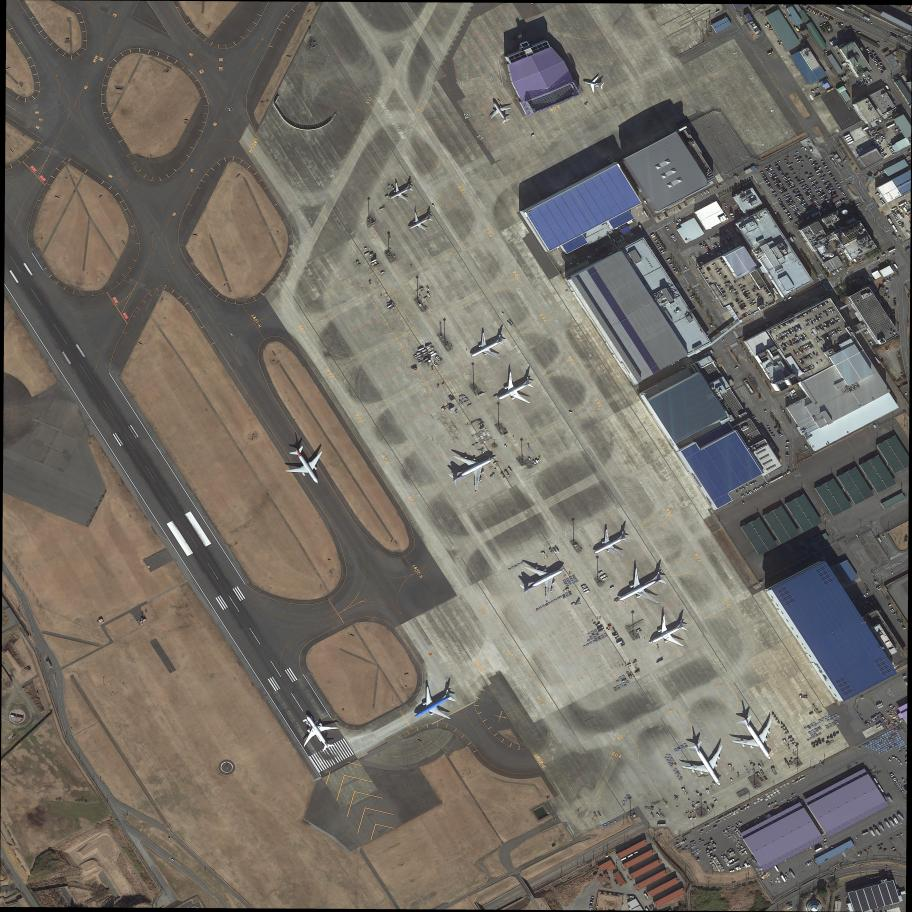large-vehicle: (891, 814, 900, 825), (878, 822, 887, 832), (873, 824, 881, 835), (888, 817, 896, 827), (884, 819, 892, 829), (869, 827, 877, 837), (886, 794, 894, 803), (835, 5, 845, 12), (897, 813, 905, 821), (793, 25, 801, 33), (891, 233, 899, 241), (898, 201, 907, 208), (814, 846, 823, 853), (789, 871, 796, 879), (888, 247, 896, 254), (500, 472, 506, 480), (504, 470, 510, 478), (766, 22, 772, 30), (759, 777, 765, 784), (373, 263, 380, 269), (863, 15, 870, 21), (893, 263, 899, 270), (873, 777, 879, 784), (663, 212, 669, 219), (627, 853, 634, 859), (620, 856, 627, 862), (902, 206, 908, 213), (897, 212, 903, 219), (763, 776, 769, 782), (677, 205, 683, 211), (789, 760, 794, 767), (767, 51, 774, 56), (683, 201, 688, 208), (760, 770, 765, 776), (426, 292, 431, 298), (656, 813, 661, 819), (715, 9, 721, 14), (530, 133, 536, 138), (390, 185, 395, 191), (384, 194, 390, 199), (878, 704, 884, 709), (657, 216, 662, 222), (899, 207, 904, 213), (876, 703, 883, 707), (892, 776, 897, 781), (889, 837, 894, 842), (876, 843, 881, 848), (431, 204, 436, 209), (729, 778, 734, 783), (840, 22, 845, 27), (764, 24, 769, 29), (877, 784, 882, 789), (829, 41, 834, 46), (634, 850, 639, 855), (888, 704, 894, 708), (755, 773, 759, 778), (893, 778, 898, 782), (889, 772, 894, 776), (757, 772, 761, 777), (501, 311, 505, 316), (568, 410, 573, 414), (504, 444, 508, 449), (379, 207, 384, 211), (530, 0, 534, 5), (792, 235, 796, 240), (867, 276, 871, 281), (880, 788, 884, 793), (900, 224, 905, 228), (883, 847, 887, 851), (426, 287, 430, 291), (712, 782, 716, 786), (751, 482, 756, 485), (738, 488, 743, 491), (741, 487, 746, 490), (387, 184, 390, 189), (740, 15, 743, 20), (745, 485, 749, 488), (749, 483, 753, 486), (753, 481, 757, 484), (904, 204, 907, 208), (622, 903, 624, 907)
plane: (667, 723, 745, 804), (718, 702, 792, 779), (603, 556, 674, 622), (440, 434, 507, 503), (399, 670, 469, 735), (508, 548, 578, 613), (636, 599, 704, 664), (273, 433, 337, 499), (287, 700, 348, 764), (484, 362, 546, 420), (460, 315, 520, 372), (583, 516, 641, 567), (401, 203, 442, 243), (383, 174, 421, 211), (483, 94, 518, 129), (580, 73, 608, 96)
small-vehicle: (835, 315, 840, 320), (825, 313, 830, 318), (896, 618, 901, 623), (876, 585, 881, 590), (888, 603, 893, 608), (854, 835, 859, 840), (171, 858, 176, 863), (768, 294, 773, 299), (883, 154, 888, 159), (819, 13, 824, 18), (876, 57, 881, 62), (777, 325, 782, 330), (773, 327, 778, 332), (780, 324, 785, 329), (660, 251, 666, 255), (650, 235, 656, 239), (653, 239, 659, 243), (657, 246, 663, 250), (843, 26, 847, 32), (847, 7, 853, 11), (807, 309, 811, 315), (765, 181, 771, 185), (799, 350, 803, 355), (815, 353, 819, 358), (793, 337, 797, 342), (782, 347, 786, 352), (782, 343, 786, 348), (779, 344, 783, 349), (733, 243, 737, 248), (727, 246, 731, 251), (721, 249, 725, 254), (718, 251, 722, 256), (833, 270, 837, 275), (735, 242, 739, 247), (706, 189, 710, 194), (700, 192, 704, 197), (692, 196, 696, 201), (818, 313, 822, 318), (814, 314, 818, 319), (819, 316, 823, 321), (819, 303, 823, 308), (821, 302, 825, 307), (825, 300, 829, 305), (769, 330, 773, 335), (891, 275, 895, 280), (886, 278, 890, 283), (833, 309, 837, 314), (831, 306, 835, 311), (829, 307, 833, 312), (797, 323, 801, 328), (834, 332, 838, 337), (826, 336, 830, 341), (837, 326, 841, 331), (901, 625, 906, 629), (899, 832, 904, 836), (896, 834, 900, 839), (898, 622, 903, 626), (869, 601, 873, 606), (745, 492, 749, 497), (855, 533, 859, 538), (891, 571, 895, 576), (877, 588, 882, 592), (892, 612, 897, 616), (863, 593, 867, 598), (852, 599, 856, 604), (890, 609, 895, 613), (891, 847, 896, 851), (867, 847, 871, 852), (864, 848, 868, 853), (862, 849, 866, 854), (804, 862, 808, 867), (830, 873, 835, 877), (673, 269, 678, 273), (741, 289, 746, 293), (739, 287, 744, 291), (729, 282, 733, 287), (723, 282, 728, 286), (725, 284, 729, 289), (686, 289, 691, 293), (666, 258, 671, 262), (665, 228, 670, 232), (723, 264, 728, 268), (718, 273, 723, 277), (714, 268, 719, 272), (664, 226, 669, 230), (670, 234, 675, 238), (650, 233, 655, 237), (655, 242, 660, 246), (656, 244, 661, 248), (660, 249, 665, 253), (777, 431, 782, 435), (709, 323, 713, 328), (721, 338, 725, 343), (763, 409, 768, 413), (779, 434, 784, 438), (744, 312, 748, 317), (748, 310, 752, 315), (766, 292, 771, 296), (734, 366, 739, 370), (810, 308, 814, 313), (863, 81, 867, 86), (815, 86, 820, 90), (811, 89, 815, 94), (863, 77, 867, 82), (807, 141, 812, 145), (852, 29, 857, 33), (835, 22, 839, 27), (869, 21, 874, 25), (823, 50, 828, 54), (897, 61, 901, 66), (880, 134, 885, 138), (804, 147, 808, 152), (782, 176, 787, 180), (773, 162, 778, 166), (775, 164, 780, 168), (780, 172, 785, 176), (781, 173, 786, 177), (788, 185, 793, 189), (774, 175, 779, 179), (791, 183, 796, 187), (793, 155, 798, 159), (817, 167, 822, 171), (815, 169, 820, 173), (816, 172, 821, 176), (804, 154, 808, 159), (798, 155, 803, 159), (808, 158, 813, 162), (810, 163, 815, 167), (788, 166, 793, 170), (794, 158, 799, 162), (783, 159, 788, 163), (796, 160, 801, 164), (807, 177, 812, 181), (797, 180, 802, 184), (792, 172, 797, 176), (824, 15, 828, 20), (815, 11, 819, 16), (811, 9, 815, 14), (783, 14, 787, 19), (865, 47, 870, 51), (866, 49, 871, 53), (867, 50, 872, 54), (610, 586, 615, 590), (783, 196, 788, 200), (788, 204, 793, 208), (777, 199, 782, 203), (778, 201, 783, 205), (780, 204, 785, 208), (781, 206, 786, 210), (782, 207, 787, 211), (787, 214, 792, 218), (795, 195, 800, 199), (802, 207, 807, 211), (821, 208, 825, 213), (786, 321, 790, 326), (789, 319, 793, 324), (795, 316, 799, 321), (799, 314, 803, 319), (802, 312, 806, 317), (835, 183, 840, 187), (830, 156, 834, 161), (823, 165, 828, 169), (825, 167, 830, 171), (826, 170, 831, 174), (830, 175, 835, 179), (832, 178, 837, 182), (828, 204, 832, 209), (838, 188, 843, 192), (840, 190, 845, 194), (843, 194, 848, 198), (880, 174, 884, 179), (875, 192, 880, 196), (772, 191, 777, 195), (891, 211, 896, 215), (774, 182, 779, 186), (769, 186, 774, 190), (807, 189, 812, 193), (802, 188, 807, 192), (806, 194, 811, 198), (819, 176, 824, 180), (823, 184, 828, 188), (829, 186, 834, 190), (826, 200, 831, 204), (824, 197, 829, 201), (822, 193, 827, 197), (793, 350, 797, 354), (812, 351, 816, 355), (804, 344, 808, 348), (799, 346, 803, 350), (797, 347, 801, 351), (796, 352, 800, 356), (794, 353, 798, 357), (809, 353, 813, 357), (798, 359, 802, 363), (820, 359, 824, 363), (798, 339, 802, 343), (796, 340, 800, 344), (799, 335, 803, 339), (796, 336, 800, 340), (809, 345, 813, 349), (788, 344, 792, 348), (785, 342, 789, 346), (815, 361, 819, 365), (730, 245, 734, 249), (723, 249, 727, 253), (716, 252, 720, 256), (702, 240, 706, 244), (703, 242, 707, 246), (836, 269, 840, 273), (804, 367, 808, 371), (703, 191, 707, 195), (725, 240, 729, 244), (723, 238, 727, 242), (839, 267, 843, 271), (716, 242, 720, 246), (713, 243, 717, 247), (711, 244, 715, 248), (726, 229, 730, 233), (721, 231, 725, 235), (715, 234, 719, 238), (804, 336, 808, 340), (834, 317, 838, 321), (827, 324, 831, 328), (825, 325, 829, 329), (822, 327, 826, 331), (820, 328, 824, 332), (834, 320, 838, 324), (837, 319, 841, 323), (822, 311, 826, 315), (831, 318, 835, 322), (826, 320, 830, 324), (823, 322, 827, 326), (818, 325, 822, 329), (815, 326, 819, 330), (777, 339, 781, 343), (893, 297, 897, 301), (816, 305, 820, 309), (818, 304, 822, 308), (888, 277, 892, 281), (893, 304, 897, 308), (830, 323, 834, 327), (831, 311, 835, 315), (829, 312, 833, 316), (827, 308, 831, 312), (818, 317, 822, 321), (820, 336, 824, 340), (799, 327, 803, 331), (796, 328, 800, 332), (795, 329, 799, 333), (791, 331, 795, 335), (788, 333, 792, 337), (782, 336, 786, 340), (779, 337, 783, 341), (794, 325, 798, 329), (791, 327, 795, 331), (789, 328, 793, 332), (786, 330, 790, 334), (783, 331, 787, 335), (780, 333, 784, 337), (823, 334, 827, 338), (805, 320, 809, 324), (805, 324, 809, 328), (839, 330, 843, 334), (837, 330, 841, 334), (829, 335, 833, 339), (832, 329, 836, 333), (898, 620, 902, 624), (893, 849, 897, 853), (747, 492, 751, 496), (742, 494, 746, 498), (740, 495, 744, 499), (873, 600, 877, 604), (864, 604, 868, 608), (865, 600, 869, 604), (858, 596, 862, 600), (859, 603, 863, 607), (890, 608, 894, 612), (565, 289, 569, 293), (859, 851, 863, 855), (830, 845, 834, 849), (809, 860, 813, 864), (806, 862, 810, 866), (748, 491, 752, 495), (735, 293, 739, 297), (742, 276, 746, 280), (733, 280, 737, 284), (772, 298, 776, 302), (743, 285, 747, 289), (753, 284, 757, 288), (733, 289, 737, 293), (738, 284, 742, 288), (705, 277, 709, 281), (708, 282, 712, 286), (754, 488, 758, 492), (765, 289, 769, 293), (722, 261, 726, 265), (712, 263, 716, 267), (702, 272, 706, 276), (676, 219, 680, 223), (718, 284, 722, 288), (741, 314, 745, 318), (774, 425, 778, 429), (765, 482, 769, 486), (763, 483, 767, 487), (760, 485, 764, 489), (742, 313, 746, 317), (746, 290, 750, 294), (765, 302, 769, 306), (731, 305, 735, 309), (739, 304, 743, 308), (746, 297, 750, 301), (749, 302, 753, 306), (813, 307, 817, 311), (858, 84, 862, 88), (860, 83, 864, 87), (861, 82, 865, 86), (864, 81, 868, 85), (867, 80, 871, 84), (868, 79, 872, 83), (779, 40, 783, 44), (865, 77, 869, 81), (814, 88, 818, 92), (881, 152, 885, 156), (890, 149, 894, 153), (887, 145, 891, 149), (877, 66, 881, 70), (819, 23, 823, 27), (861, 79, 865, 83), (904, 34, 908, 38), (778, 168, 782, 172), (777, 160, 781, 164), (784, 177, 788, 181), (791, 182, 795, 186), (786, 181, 790, 185), (787, 182, 791, 186), (780, 184, 784, 188), (800, 146, 804, 150), (795, 151, 799, 155), (800, 165, 804, 169), (801, 160, 805, 164), (805, 173, 809, 177), (811, 175, 815, 179), (790, 169, 794, 173), (790, 162, 794, 166), (786, 162, 790, 166), (874, 61, 878, 65), (865, 330, 869, 334), (863, 331, 867, 335), (800, 799, 804, 803), (798, 193, 802, 197), (825, 345, 829, 349), (822, 15, 826, 19), (806, 8, 810, 12), (848, 27, 852, 31), (835, 39, 839, 43), (413, 354, 417, 358), (758, 764, 762, 768), (715, 185, 719, 189), (769, 166, 773, 170), (786, 193, 790, 197), (787, 201, 791, 205), (792, 209, 796, 213), (792, 210, 796, 214), (794, 213, 798, 217), (784, 209, 788, 213), (797, 211, 801, 215), (797, 191, 801, 195), (795, 188, 799, 192), (793, 191, 797, 195), (801, 204, 805, 208), (803, 208, 807, 212), (789, 198, 793, 202), (809, 209, 813, 213), (816, 211, 820, 215), (796, 221, 800, 225), (794, 222, 798, 226), (804, 312, 808, 316), (823, 207, 827, 211), (834, 162, 838, 166), (820, 159, 824, 163), (834, 180, 838, 184), (840, 189, 844, 193), (834, 202, 838, 206), (814, 206, 818, 210), (737, 209, 741, 213), (878, 176, 882, 180), (898, 196, 902, 200), (879, 198, 883, 202), (881, 201, 885, 205), (905, 214, 909, 218), (778, 187, 782, 191), (769, 173, 773, 177), (817, 203, 821, 207), (804, 183, 808, 187), (808, 197, 812, 201), (810, 199, 814, 203), (817, 192, 821, 196), (832, 189, 836, 193), (828, 190, 832, 194), (832, 196, 836, 200), (818, 187, 822, 191), (811, 182, 815, 186), (815, 188, 819, 192), (792, 338, 795, 343), (699, 244, 704, 247), (700, 246, 705, 249), (787, 333, 790, 338), (902, 627, 907, 630), (832, 271, 835, 276), (674, 271, 679, 274), (742, 292, 747, 295), (743, 294, 748, 297), (744, 295, 749, 298), (720, 259, 725, 262), (716, 271, 721, 274), (676, 226, 681, 229), (671, 236, 676, 239), (690, 297, 695, 300), (776, 430, 781, 433), (778, 433, 783, 436), (763, 287, 768, 290), (743, 306, 748, 309), (829, 68, 834, 71), (876, 41, 881, 44), (778, 170, 783, 173), (779, 171, 784, 174), (784, 179, 789, 182), (782, 195, 787, 198), (784, 198, 789, 201), (776, 198, 781, 201), (783, 209, 788, 212), (785, 211, 790, 214), (785, 213, 790, 216), (793, 193, 798, 196), (785, 321, 788, 326), (828, 173, 833, 176), (841, 192, 846, 195), (738, 211, 743, 214), (772, 180, 777, 183), (759, 171, 764, 174), (764, 179, 769, 182), (805, 192, 810, 195), (807, 196, 812, 199), (826, 181, 831, 184), (812, 180, 817, 183), (816, 191, 821, 194), (803, 348, 806, 352), (806, 343, 809, 347), (801, 345, 804, 349), (806, 347, 809, 351), (806, 354, 809, 358), (805, 355, 808, 359), (803, 356, 806, 360), (802, 357, 805, 361), (800, 358, 803, 362), (802, 360, 805, 364), (808, 346, 811, 350), (811, 364, 814, 368), (801, 338, 805, 341), (800, 338, 803, 342), (792, 343, 796, 346), (803, 333, 806, 337), (791, 343, 794, 347), (789, 340, 792, 344), (786, 346, 789, 350), (784, 347, 787, 351), (784, 343, 787, 347), (811, 344, 814, 348), (808, 342, 811, 346), (809, 365, 812, 369), (729, 246, 732, 250), (726, 247, 729, 251), (725, 248, 728, 252), (705, 245, 709, 248), (706, 247, 710, 250), (709, 252, 713, 255), (710, 253, 714, 256), (705, 252, 709, 255), (707, 255, 711, 258), (727, 236, 730, 240), (802, 369, 806, 372), (708, 251, 712, 254), (719, 243, 722, 247), (724, 241, 727, 245), (725, 230, 728, 234), (714, 235, 717, 239), (713, 236, 716, 240), (708, 238, 711, 242), (776, 335, 779, 339), (824, 326, 827, 330), (836, 320, 839, 324), (830, 319, 833, 323), (828, 320, 831, 324), (825, 322, 829, 325), (820, 324, 823, 328), (824, 310, 827, 314), (815, 306, 818, 310), (824, 301, 827, 305), (884, 293, 888, 296), (814, 319, 817, 323), (780, 337, 784, 340), (798, 328, 801, 332), (793, 330, 796, 334), (784, 335, 787, 339), (788, 329, 791, 333), (782, 332, 785, 336), (822, 335, 825, 339), (825, 333, 828, 337), (826, 332, 829, 336), (811, 321, 814, 325), (807, 319, 810, 323), (807, 323, 810, 327), (817, 330, 820, 334), (836, 331, 839, 335), (832, 334, 836, 337), (831, 334, 834, 338), (836, 327, 839, 331), (831, 330, 834, 334), (812, 308, 815, 312), (871, 597, 874, 601), (866, 592, 869, 596), (860, 595, 863, 599), (783, 860, 787, 863), (808, 861, 811, 865), (589, 905, 593, 908), (590, 901, 594, 904), (750, 490, 753, 494), (753, 489, 756, 493), (756, 286, 759, 290), (734, 292, 738, 295), (669, 263, 673, 266), (690, 295, 694, 298), (672, 267, 676, 270), (673, 239, 677, 242), (672, 238, 676, 241), (720, 288, 724, 291), (765, 425, 769, 428), (767, 427, 771, 430), (768, 430, 772, 433), (770, 432, 774, 435), (771, 435, 775, 438), (723, 296, 727, 299), (767, 474, 771, 477), (759, 486, 762, 490), (757, 487, 761, 490), (756, 487, 759, 491), (746, 312, 749, 316), (754, 288, 757, 292), (757, 296, 761, 299), (763, 286, 767, 289), (737, 302, 741, 305), (740, 306, 744, 309), (740, 307, 744, 310), (742, 303, 746, 306), (740, 301, 744, 304), (750, 304, 754, 307), (752, 300, 756, 303), (754, 302, 758, 305), (844, 84, 848, 87), (870, 78, 873, 82), (868, 75, 871, 79), (843, 82, 847, 85), (909, 104, 912, 108), (891, 151, 895, 154), (889, 148, 893, 151), (882, 136, 886, 139), (867, 76, 870, 80), (875, 63, 879, 66), (877, 65, 880, 69), (879, 68, 883, 71), (880, 71, 884, 74), (883, 69, 887, 72), (823, 22, 827, 25), (857, 31, 861, 34), (860, 80, 863, 84), (770, 168, 774, 171), (789, 180, 793, 183), (788, 177, 792, 180), (782, 175, 786, 178), (776, 178, 780, 181), (779, 183, 783, 186), (778, 182, 782, 185), (773, 173, 777, 176), (790, 181, 794, 184), (801, 179, 805, 182), (787, 164, 791, 167), (873, 60, 877, 63), (872, 59, 876, 62), (752, 288, 755, 292), (891, 313, 895, 316), (888, 313, 891, 317), (882, 138, 886, 141), (871, 57, 875, 60), (766, 168, 770, 171), (844, 336, 848, 339), (843, 336, 846, 340), (833, 321, 836, 325), (777, 166, 781, 169), (783, 188, 787, 191), (777, 167, 781, 170), (770, 176, 774, 179), (780, 191, 784, 194), (794, 194, 798, 197), (828, 183, 832, 186), (833, 40, 836, 44), (826, 16, 829, 20), (813, 11, 816, 15), (805, 11, 808, 15), (837, 38, 840, 42), (880, 64, 884, 67), (879, 61, 883, 64), (874, 54, 878, 57), (872, 51, 876, 54), (869, 53, 873, 56), (419, 361, 423, 364), (771, 170, 775, 173), (793, 212, 797, 215), (789, 205, 793, 208), (790, 207, 794, 210), (791, 208, 795, 211), (798, 213, 802, 216), (788, 196, 792, 199), (795, 215, 799, 218), (798, 201, 802, 204), (803, 202, 807, 205), (799, 195, 803, 198), (796, 197, 800, 200), (797, 198, 801, 201), (797, 200, 801, 203), (800, 203, 804, 206), (796, 210, 800, 213), (802, 206, 806, 209), (791, 201, 795, 204), (792, 203, 796, 206), (793, 205, 797, 208), (794, 207, 798, 210), (795, 208, 799, 211), (788, 216, 792, 219), (768, 165, 772, 168), (815, 212, 818, 216), (813, 213, 816, 217), (810, 214, 813, 218), (806, 216, 809, 220), (800, 219, 803, 223), (799, 220, 802, 224), (793, 318, 796, 322), (798, 315, 801, 319), (801, 313, 804, 317), (806, 311, 809, 315), (818, 210, 821, 214), (805, 211, 809, 214), (799, 214, 803, 217), (837, 186, 841, 189), (842, 193, 846, 196), (841, 198, 844, 202), (838, 200, 842, 203), (837, 200, 840, 204), (835, 201, 839, 204), (805, 204, 809, 207), (813, 205, 817, 208), (882, 203, 886, 206), (774, 194, 778, 197), (737, 208, 741, 211), (880, 200, 884, 203), (906, 203, 909, 207), (893, 213, 897, 216), (894, 216, 898, 219), (894, 218, 898, 221), (897, 221, 901, 224), (898, 223, 902, 226), (773, 193, 777, 196), (771, 189, 775, 192), (812, 204, 816, 207), (767, 169, 771, 172), (768, 172, 772, 175), (771, 177, 775, 180), (772, 178, 776, 181), (776, 185, 780, 188), (777, 186, 781, 189), (778, 189, 782, 192), (770, 188, 774, 191), (779, 190, 783, 193), (765, 167, 769, 170), (760, 172, 764, 175), (761, 174, 765, 177), (763, 176, 767, 179), (764, 178, 768, 181), (768, 185, 772, 188), (805, 185, 809, 188), (822, 199, 826, 202), (822, 200, 826, 203), (817, 205, 821, 208), (816, 202, 820, 205), (815, 201, 819, 204), (813, 198, 817, 201), (809, 192, 813, 195), (806, 187, 810, 190), (801, 186, 805, 189), (803, 190, 807, 193), (806, 193, 810, 196), (811, 201, 815, 204), (821, 198, 825, 201), (820, 196, 824, 199), (819, 195, 823, 198), (810, 193, 814, 196), (821, 179, 825, 182), (827, 189, 831, 192), (819, 189, 823, 192), (810, 181, 814, 184), (812, 185, 816, 188), (813, 186, 817, 189), (814, 187, 818, 190), (885, 288, 890, 290), (884, 290, 889, 292), (803, 345, 806, 348), (800, 362, 803, 365), (810, 357, 813, 360), (805, 348, 808, 351), (794, 342, 797, 345), (806, 367, 809, 370), (718, 245, 721, 248), (711, 237, 714, 240), (803, 337, 806, 340), (833, 318, 836, 321), (817, 326, 820, 329), (820, 313, 823, 316), (815, 319, 818, 322), (785, 331, 788, 334), (779, 334, 782, 337), (811, 318, 814, 321), (809, 319, 812, 322), (821, 340, 824, 343), (829, 331, 832, 334), (828, 332, 831, 335), (863, 606, 866, 609), (862, 595, 865, 598), (591, 896, 594, 899), (880, 69, 883, 72), (788, 184, 791, 187), (878, 299, 881, 302), (900, 785, 903, 788), (899, 784, 902, 787), (838, 339, 841, 342), (837, 340, 840, 343), (835, 340, 838, 343), (827, 345, 830, 348), (822, 348, 825, 351), (782, 187, 785, 190), (826, 186, 829, 189), (898, 783, 901, 786), (898, 782, 901, 785), (897, 781, 900, 784), (882, 66, 885, 69), (898, 787, 901, 790), (896, 784, 899, 787), (895, 783, 898, 786), (737, 175, 740, 178), (802, 199, 805, 202), (793, 204, 796, 207), (812, 214, 815, 217), (894, 215, 897, 218), (896, 219, 899, 222), (768, 171, 771, 174), (770, 175, 773, 178), (812, 202, 815, 205), (706, 254, 710, 256), (589, 907, 593, 909), (589, 909, 593, 911), (785, 446, 789, 448), (785, 454, 789, 456), (780, 204, 784, 206), (902, 790, 906, 792), (814, 200, 818, 202), (796, 341, 798, 344), (813, 321, 815, 324), (743, 305, 746, 307), (880, 301, 882, 304), (881, 303, 883, 306), (884, 301, 887, 303), (902, 789, 905, 791), (901, 788, 904, 790), (901, 786, 903, 789), (768, 185, 771, 187), (840, 338, 842, 341), (824, 183, 827, 185), (896, 780, 899, 782), (900, 791, 903, 793), (899, 789, 902, 791), (898, 786, 900, 789), (897, 786, 900, 788), (895, 782, 898, 784), (894, 781, 897, 783), (785, 442, 790, 443), (884, 296, 887, 297)
